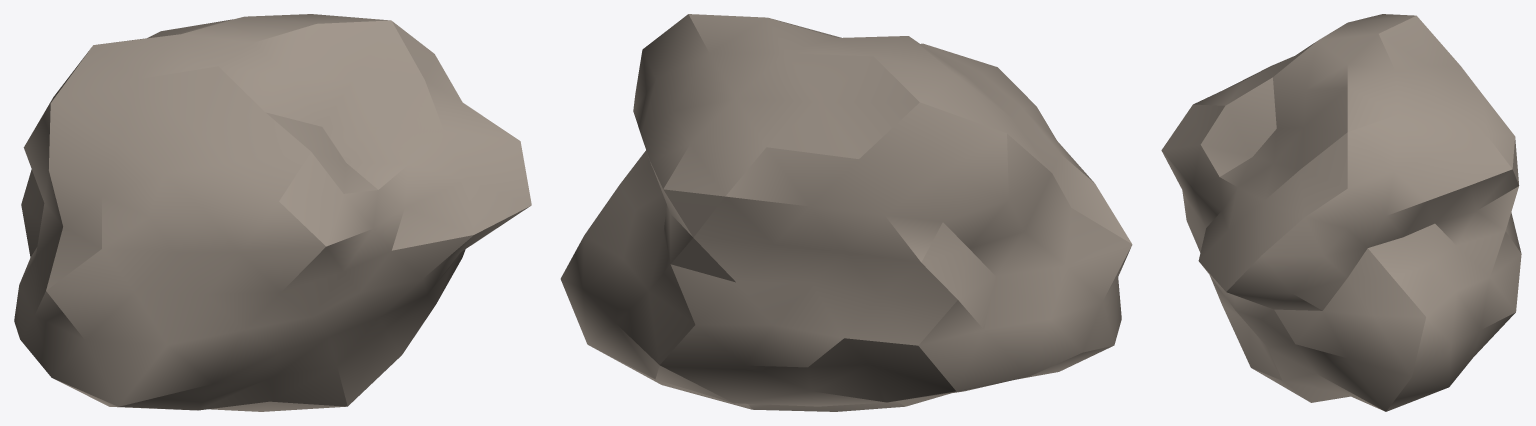
The model's file is rock1.glb.
The picture shows the model from 3 angles, left to right: view 1: azimuth 30°, elevation 25°; view 2: azimuth 150°, elevation 25°; view 3: azimuth 270°, elevation 25°; orthographic projection. The views are drawn at different scales.
Visible parts, largest first — view 1: Rock; view 2: Rock; view 3: Rock.
Part boxes in pixels (x1=…): Rock: x1=14, y1=14, x2=531, y2=411; Rock: x1=560, y1=14, x2=1132, y2=411; Rock: x1=1161, y1=14, x2=1521, y2=411.
Bounding box in the file's own units: 2.59 × 1.97 × 2.01.
